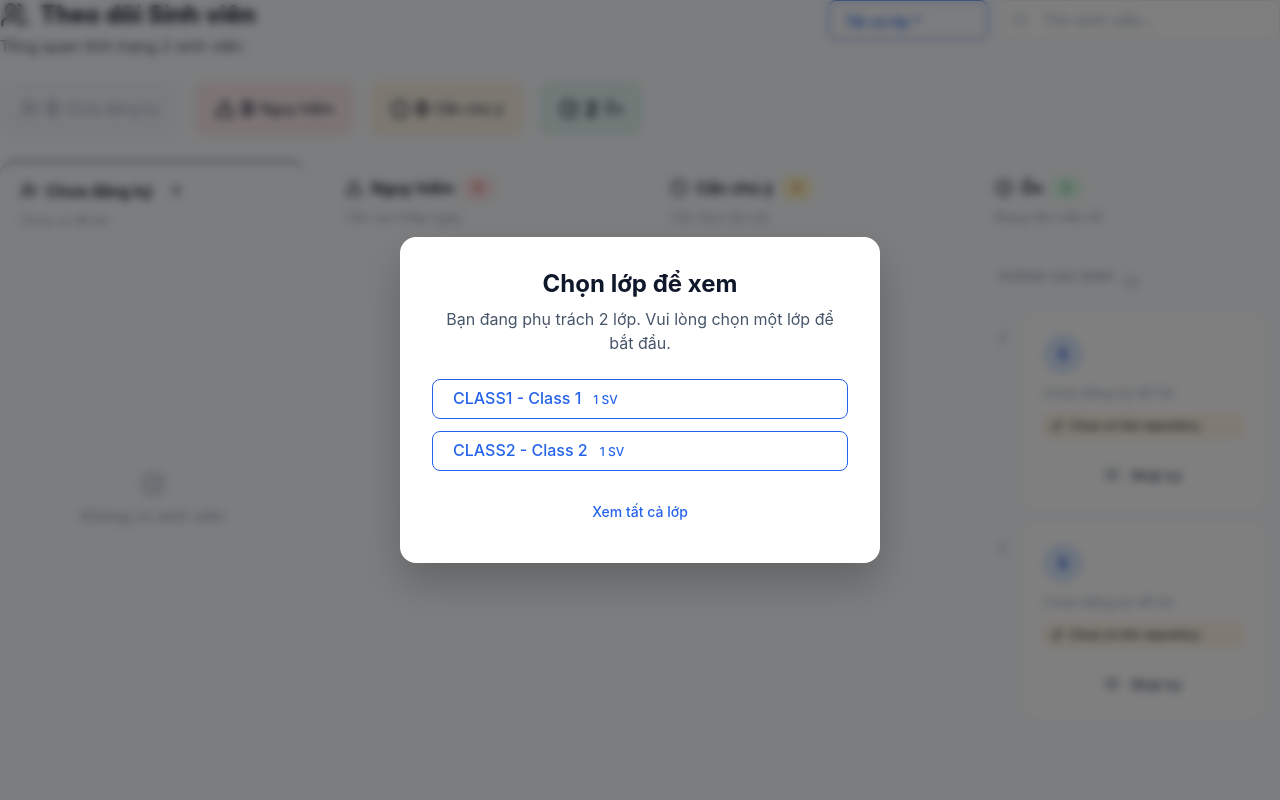
Test case: MenteesKanbanPage Class Selection › shows board after class button clicked
Click on Class 1 button
Click the button "CLASS1 - Class 1" at {"x": 483, "y": 398}, box [453,388,581,408]
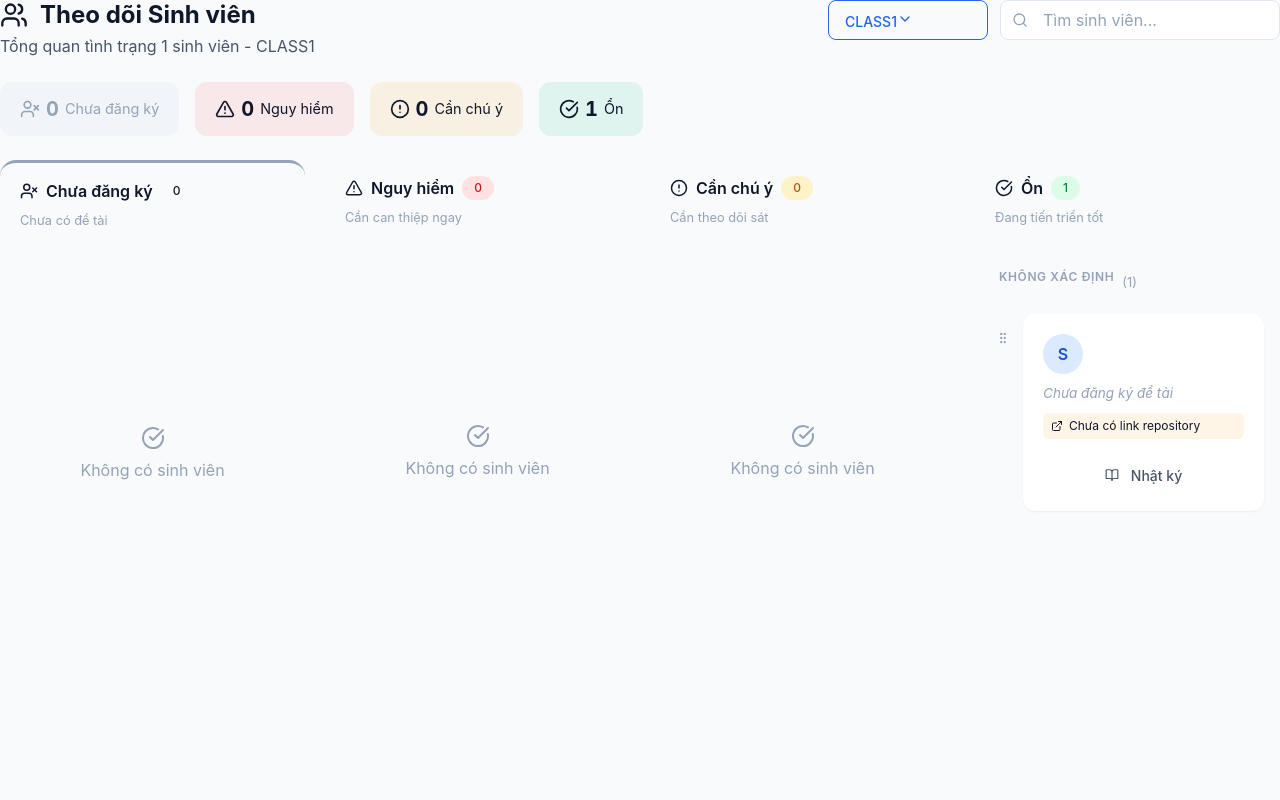
Check: the heading "Chọn lớp để xem" is gone
